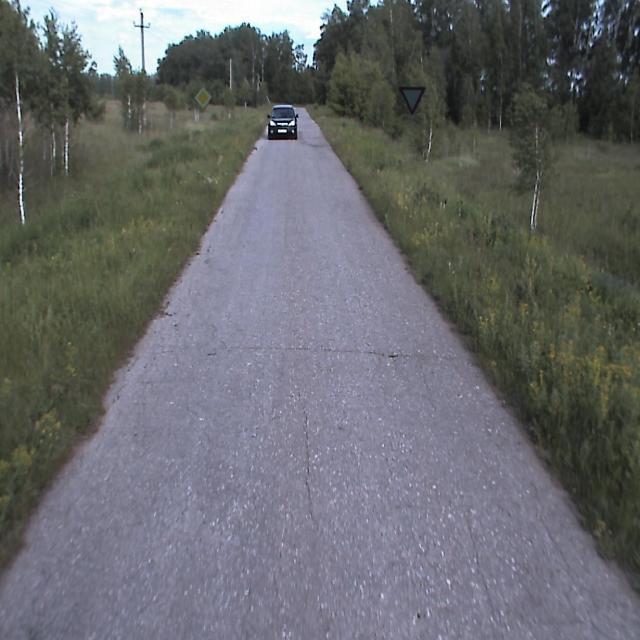road: (0, 109, 639, 639)
